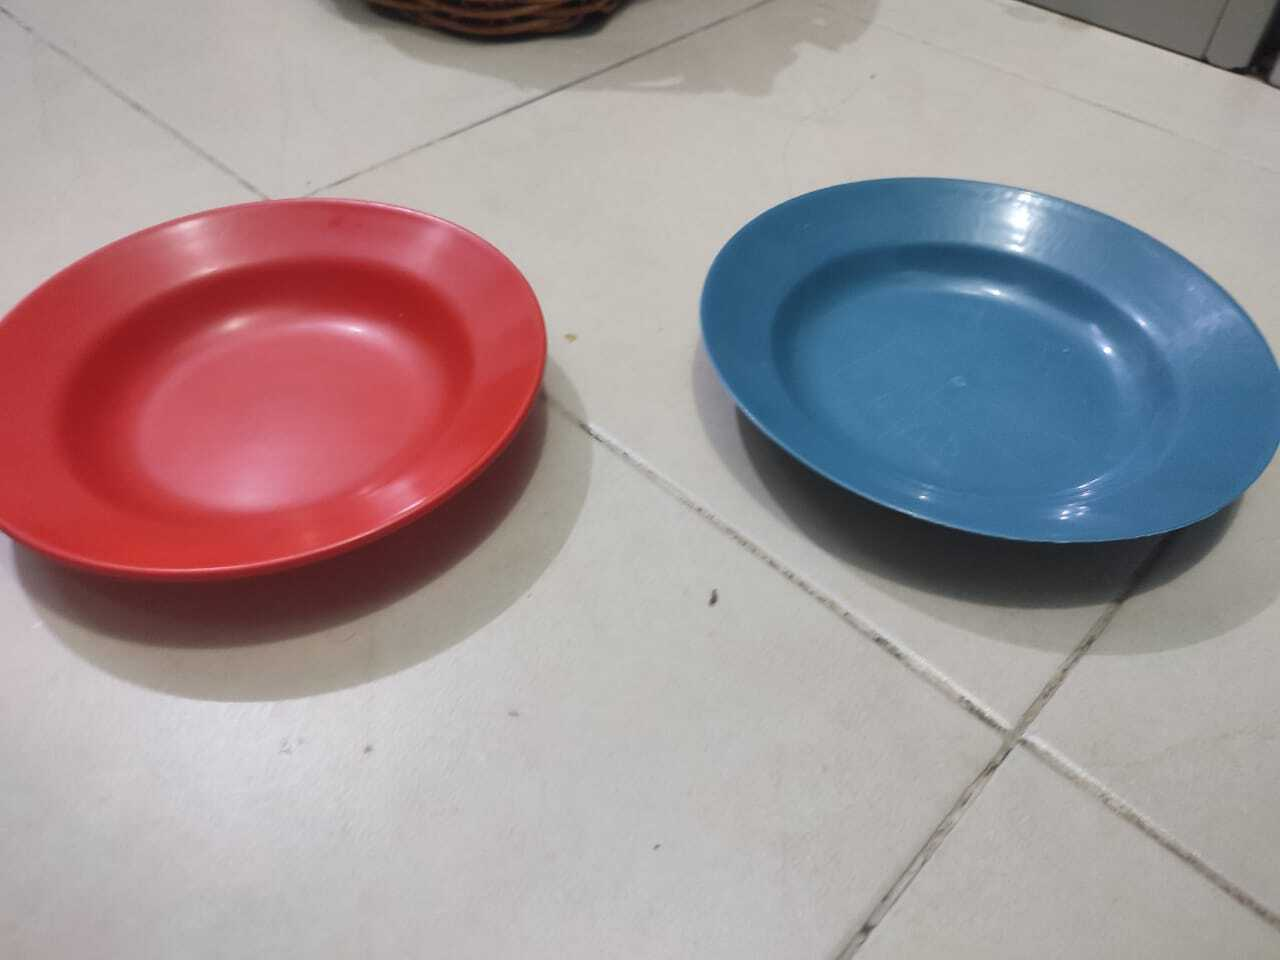piring: (693, 173, 1280, 545), (0, 194, 548, 578)
